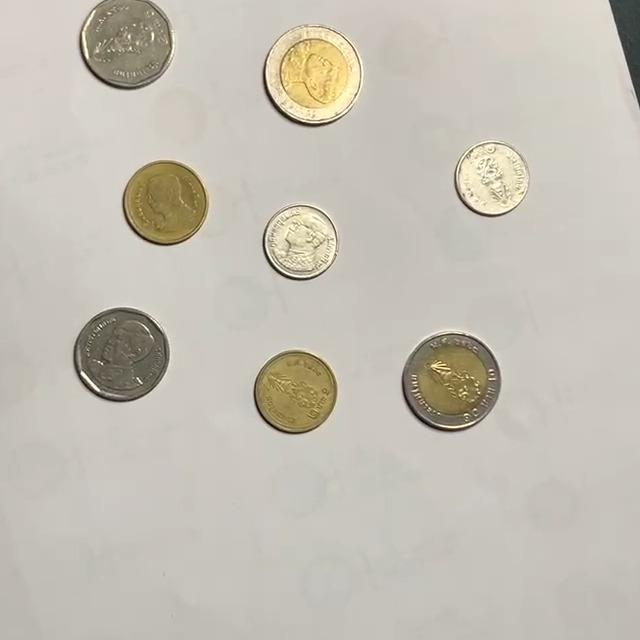1-baht: (263, 204, 341, 280), (455, 141, 532, 217)
10-baht: (263, 25, 364, 125), (402, 331, 502, 430)
2-baht: (122, 159, 208, 245), (253, 350, 338, 434)
5-baht: (74, 306, 171, 402), (79, 0, 176, 90)
